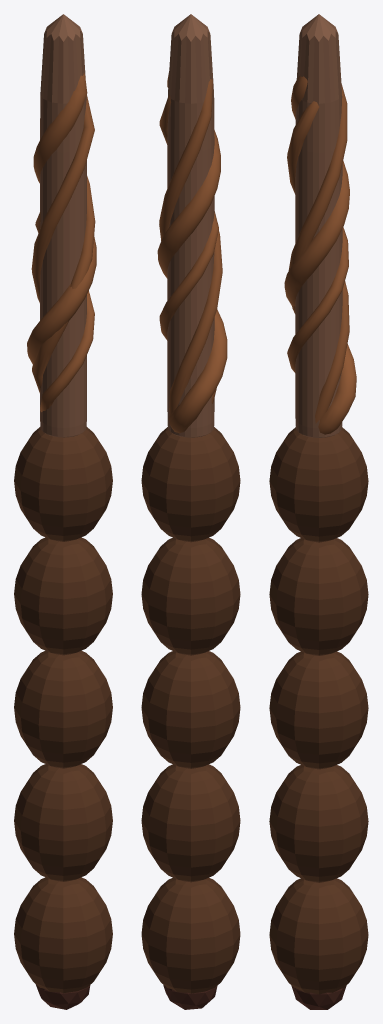
File: Wand 270.glb
3 renders of one model, left to right at view 1: azimuth 30°, elevation 25°; view 2: azimuth 210°, elevation 25°; view 3: azimuth 270°, elevation 25°, orthographic.
Parts seen in each view (by area): view 1: GeneratedWand; view 2: GeneratedWand; view 3: GeneratedWand.
Boxes of the visible parts, x1=… form: GeneratedWand: x1=14, y1=14, x2=112, y2=1009; GeneratedWand: x1=141, y1=14, x2=240, y2=1009; GeneratedWand: x1=269, y1=14, x2=368, y2=1009.
Size of the model in its own units: 0.0447 by 0.4973 by 0.0449.
